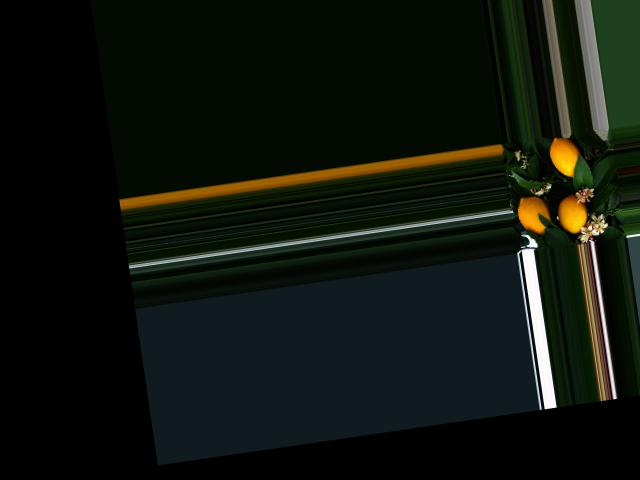lemon: (546, 134, 591, 185)
